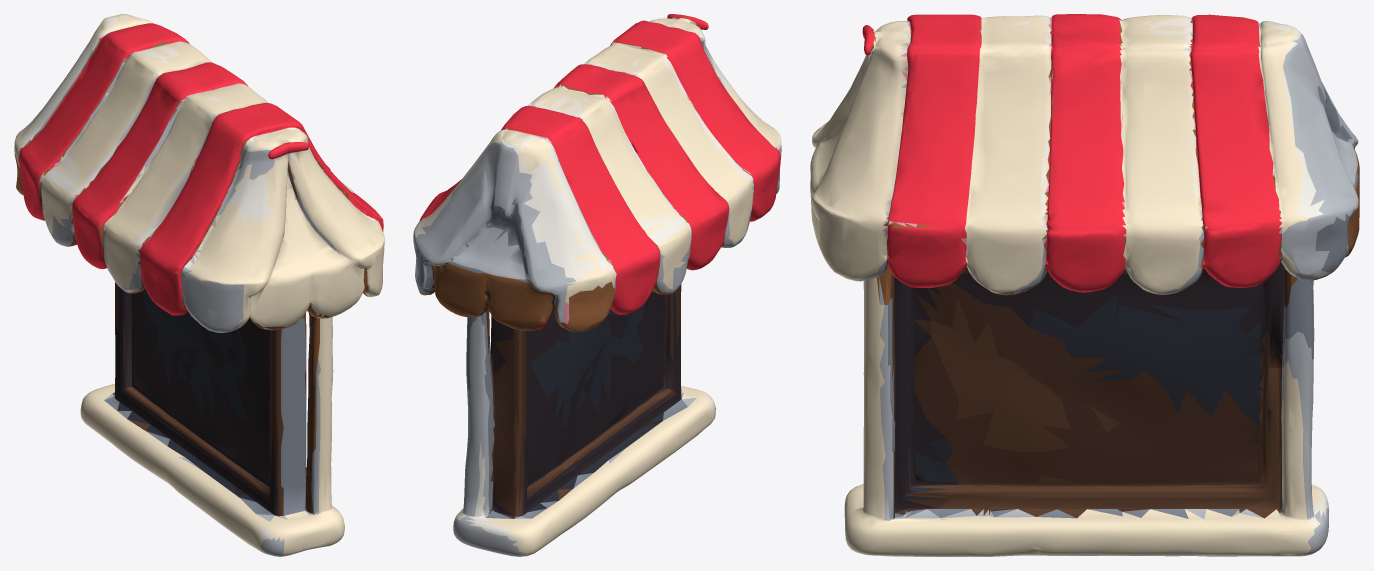
File: SM_stall_awning.glb
The picture shows the model from 3 angles, left to right: view 1: azimuth 30°, elevation 25°; view 2: azimuth 150°, elevation 25°; view 3: azimuth 270°, elevation 25°; orthographic projection. The views are drawn at different scales.
Parts seen in each view (by area): view 1: SM_stall_awning; view 2: SM_stall_awning; view 3: SM_stall_awning.
Part boxes in pixels (bbox=[...]): SM_stall_awning: bbox=[14, 14, 384, 556]; SM_stall_awning: bbox=[413, 14, 781, 556]; SM_stall_awning: bbox=[810, 14, 1359, 556].
Bounding box in the file's own units: 1.19 × 2 × 1.98.
Materials: 1 (1 with a texture image).
